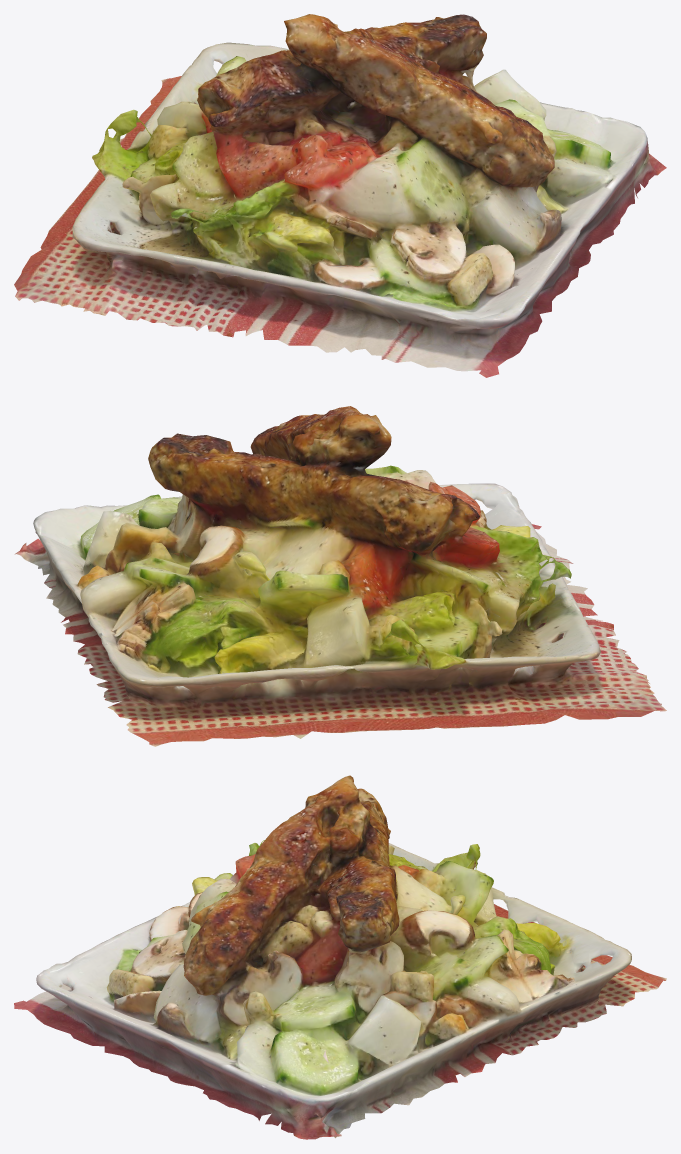
The picture shows the model from 3 angles, top to bottom: view 1: azimuth 30°, elevation 25°; view 2: azimuth 150°, elevation 25°; view 3: azimuth 270°, elevation 25°; orthographic projection. The views are drawn at different scales.
Parts seen in each view (by area): view 1: Stereo textured mesh; view 2: Stereo textured mesh; view 3: Stereo textured mesh.
Boxes of the visible parts, x1,y1,x2,y2 form: Stereo textured mesh: (14,14,666,377); Stereo textured mesh: (14,406,666,746); Stereo textured mesh: (14,775,666,1139).
Size of the model in its own units: 0.5857 by 0.208 by 0.5634.
1 material, 1 textured.
